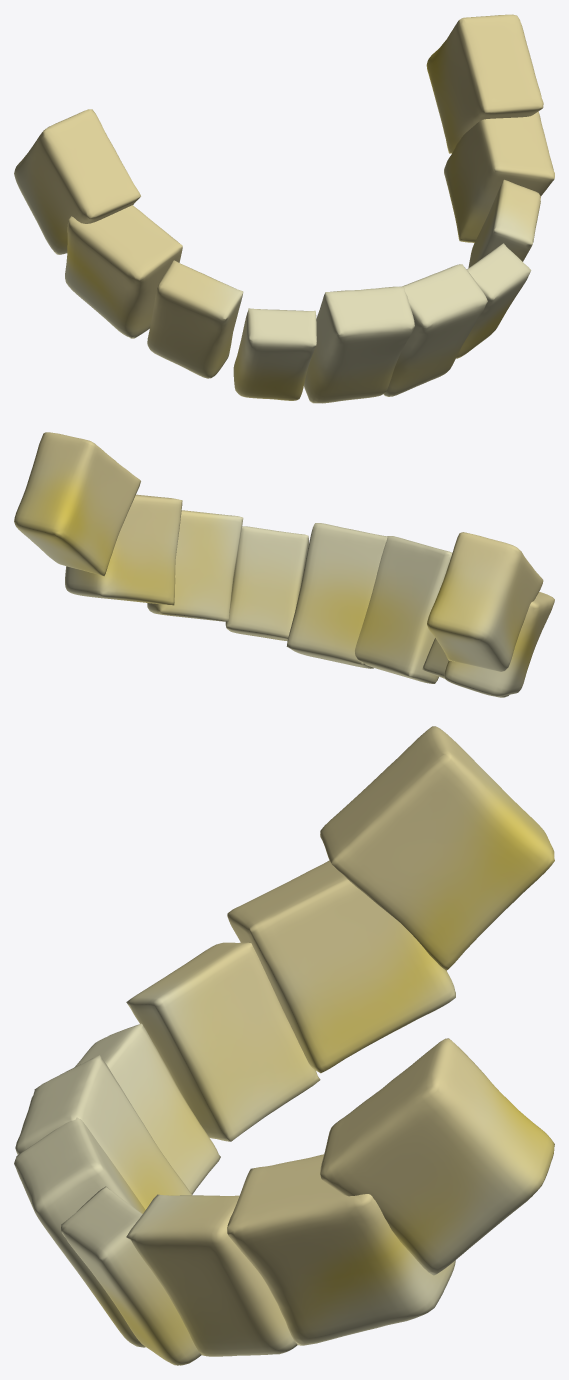
File: 14394-50c7cf91-2cb1-4bac-926b-2c225c2c2243.glb
3 renders of one model, top to bottom at view 1: azimuth 30°, elevation 25°; view 2: azimuth 150°, elevation 25°; view 3: azimuth 270°, elevation 25°, orthographic. The views are drawn at different scales.
Visible parts, largest first — view 1: Object_23.Mesh; view 2: Object_23.Mesh; view 3: Object_23.Mesh.
Part boxes in pixels (x1,y1,x2,y2): Object_23.Mesh: (14,14,554,403); Object_23.Mesh: (14,432,554,697); Object_23.Mesh: (14,726,554,1365).
Size of the model in its own units: 0.00249 by 0.00129 by 0.00156.
